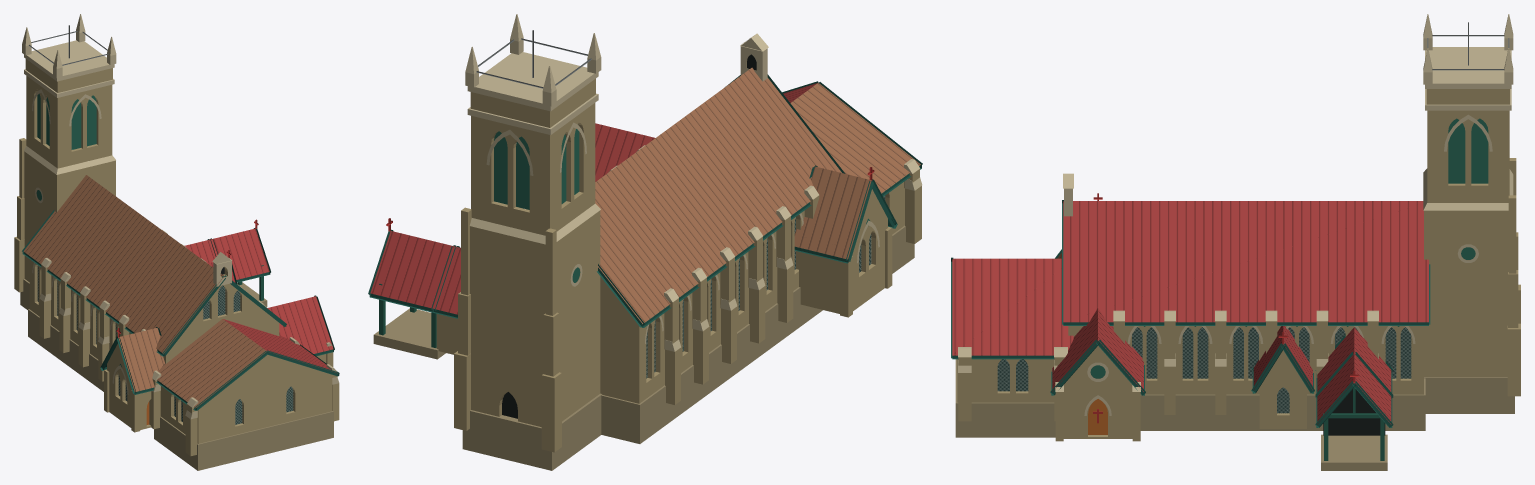
File: holy_trinity_church.glb
3 renders of one model, left to right at view 1: azimuth 30°, elevation 25°; view 2: azimuth 150°, elevation 25°; view 3: azimuth 270°, elevation 25°, orthographic. The views are drawn at different scales.
Visible parts, largest first — view 1: m_brick_tan, m_roof_rust_sheet, m_plinth_grey, m_stone_pale, m_roof_red_sheet, m_trim_green, m_louvre_green, m_window_lattice; view 2: m_brick_tan, m_roof_rust_sheet, m_plinth_grey, m_stone_pale, m_roof_red_sheet, m_trim_green, m_louvre_green, m_window_lattice, m_rail_metal; view 3: m_roof_red_sheet, m_brick_tan, m_plinth_grey, m_stone_pale, m_window_lattice, m_trim_green, m_louvre_green, m_dark_opening, m_post_green, m_door_orange.
Boxes of the visible parts, bbox=[...] form: m_brick_tan: bbox=[14, 59, 339, 456]; m_roof_rust_sheet: bbox=[23, 175, 266, 407]; m_plinth_grey: bbox=[20, 279, 333, 470]; m_stone_pale: bbox=[22, 14, 339, 419]; m_roof_red_sheet: bbox=[184, 228, 337, 373]; m_trim_green: bbox=[22, 210, 339, 410]; m_louvre_green: bbox=[36, 93, 121, 367]; m_window_lattice: bbox=[37, 266, 293, 424]; m_brick_tan: bbox=[436, 58, 921, 452]; m_roof_rust_sheet: bbox=[595, 67, 920, 323]; m_plinth_grey: bbox=[373, 225, 914, 470]; m_stone_pale: bbox=[465, 14, 922, 351]; m_roof_red_sheet: bbox=[370, 83, 817, 314]; m_trim_green: bbox=[368, 74, 922, 327]; m_louvre_green: bbox=[494, 129, 869, 282]; m_window_lattice: bbox=[646, 196, 885, 378]; m_rail_metal: bbox=[476, 30, 591, 88]; m_roof_red_sheet: bbox=[952, 201, 1428, 424]; m_brick_tan: bbox=[957, 89, 1520, 441]; m_plinth_grey: bbox=[955, 359, 1514, 470]; m_stone_pale: bbox=[958, 14, 1513, 415]; m_window_lattice: bbox=[997, 327, 1411, 413]; m_trim_green: bbox=[951, 200, 1430, 427]; m_louvre_green: bbox=[1090, 118, 1488, 378]; m_dark_opening: bbox=[1323, 389, 1385, 435]; m_post_green: bbox=[1323, 387, 1385, 460]; m_door_orange: bbox=[1088, 399, 1107, 434].
Size of the model in its own units: 24.16 by 27.7 by 38.48.
13 materials, 3 textured.
